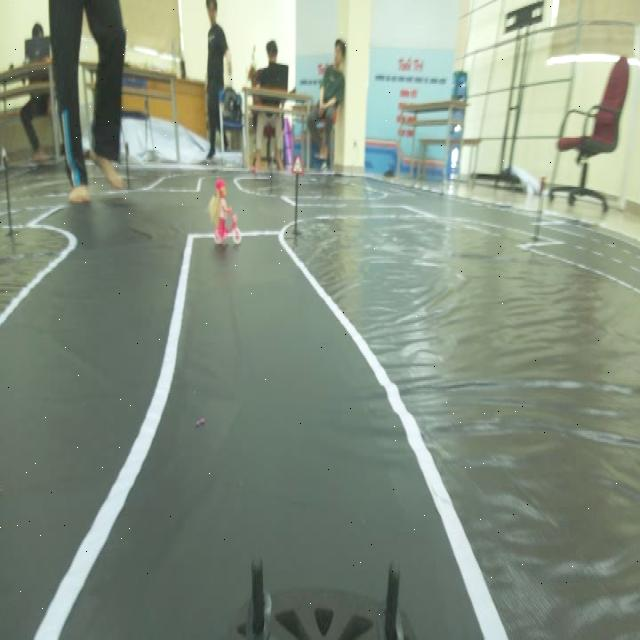pedestrian: (208, 178, 244, 250)
